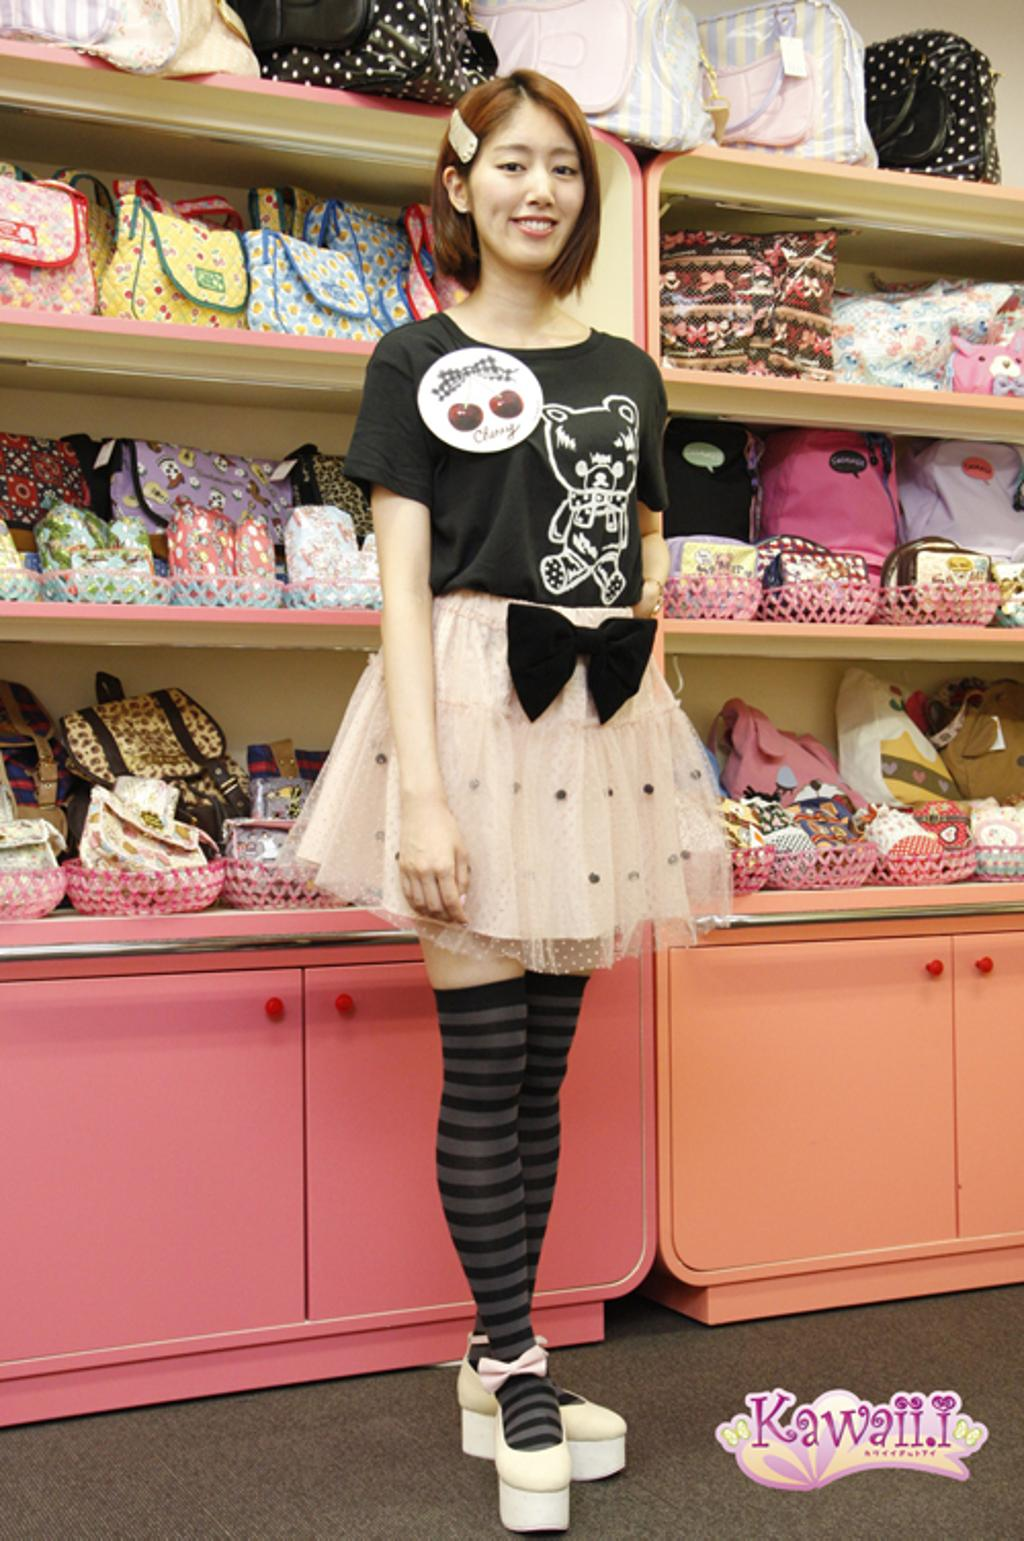face: (467, 117, 593, 274)
